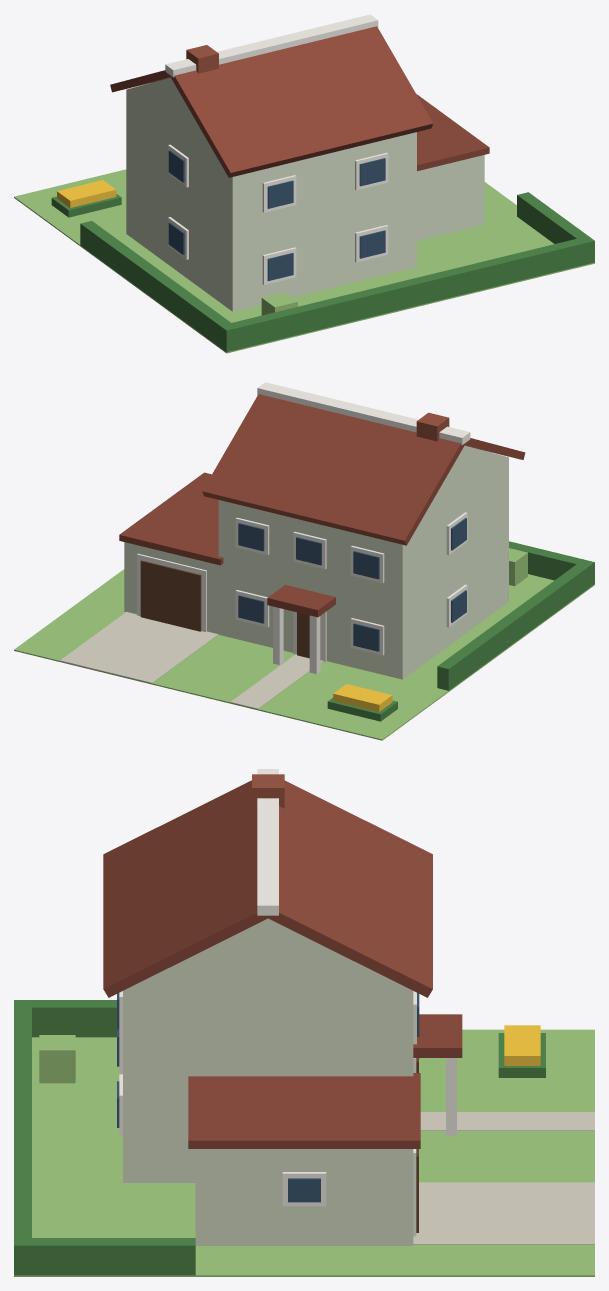
The picture shows the model from 3 angles, top to bottom: view 1: azimuth 30°, elevation 25°; view 2: azimuth 150°, elevation 25°; view 3: azimuth 270°, elevation 25°; orthographic projection. The views are drawn at different scales.
Visible parts, largest first — view 1: house, roof (×2), hedge (×3), lawn, garage, garage_roof, ridge, window_glass (×4), window_frame (×4), gable, flower_bed, flower_bed_edge (+2 smaller); view 2: house, roof (×2), lawn, hedge (×2), driveway, garage_roof, garage_door, window_glass (×5), ridge, window_frame (×5), garage, gable (+9 smaller); view 3: lawn, roof (×2), house, garage, garage_roof, hedge (×3), driveway, gable, path, ridge, porch_roof, tree_spot (+6 smaller).
Part boxes in pixels (left/top/right/bottom): house: left=126, top=89, right=416, bottom=311; roof (×2): left=110, top=26, right=433, bottom=177; hedge (×3): left=80, top=192, right=594, bottom=352; lawn: left=14, top=169, right=594, bottom=353; garage: left=417, top=155, right=484, bottom=240; garage_roof: left=416, top=94, right=489, bottom=171; ridge: left=165, top=14, right=378, bottom=77; window_glass (×4): left=267, top=158, right=385, bottom=280; window_frame (×4): left=262, top=152, right=388, bottom=284; gable: left=127, top=78, right=214, bottom=153; flower_bed: left=57, top=180, right=116, bottom=207; flower_bed_edge: left=51, top=194, right=121, bottom=217; house: left=218, top=457, right=508, bottom=679; roof (×2): left=202, top=394, right=525, bottom=545; lawn: left=14, top=569, right=594, bottom=740; hedge (×2): left=437, top=541, right=594, bottom=690; driveway: left=60, top=612, right=218, bottom=683; garage_roof: left=119, top=472, right=223, bottom=565; garage_door: left=140, top=560, right=201, bottom=631; window_glass (×5): left=238, top=523, right=379, bottom=651; ridge: left=257, top=382, right=470, bottom=444; window_frame (×5): left=235, top=517, right=384, bottom=655; garage: left=124, top=542, right=218, bottom=633; gable: left=420, top=445, right=508, bottom=521; lawn: left=14, top=1029, right=594, bottom=1276; roof (×2): left=103, top=780, right=432, bottom=997; house: left=123, top=985, right=413, bottom=1182; garage: left=195, top=1149, right=413, bottom=1245; garage_roof: left=188, top=1073, right=420, bottom=1148; hedge (×3): left=14, top=1000, right=195, bottom=1275; driveway: left=413, top=1182, right=594, bottom=1244; gable: left=134, top=918, right=402, bottom=985; path: left=420, top=1112, right=594, bottom=1130; ridge: left=257, top=769, right=278, bottom=915; porch_roof: left=413, top=1014, right=462, bottom=1057; tree_spot: left=39, top=1035, right=75, bottom=1083.
Bounding box in the file's own units: 16 × 9 × 16.
